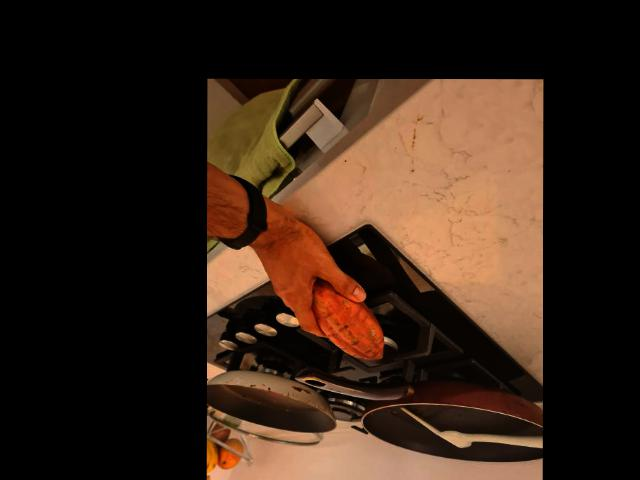sweet_potato: (312, 273, 387, 360)
